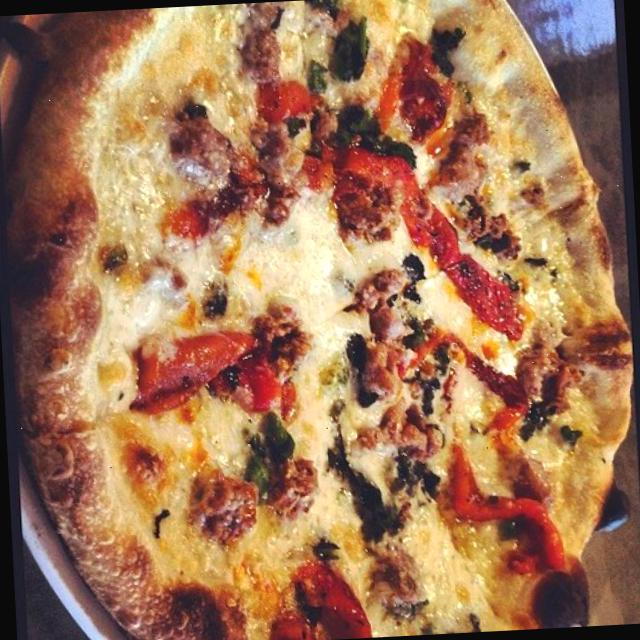basil: (322, 424, 411, 552), (318, 102, 427, 178), (317, 8, 395, 96), (232, 424, 308, 512), (428, 24, 478, 74)
pizza: (7, 0, 630, 640)
tomato: (126, 306, 282, 440), (316, 129, 458, 270), (432, 441, 576, 578), (433, 236, 527, 343), (261, 560, 366, 640), (250, 78, 342, 132)
